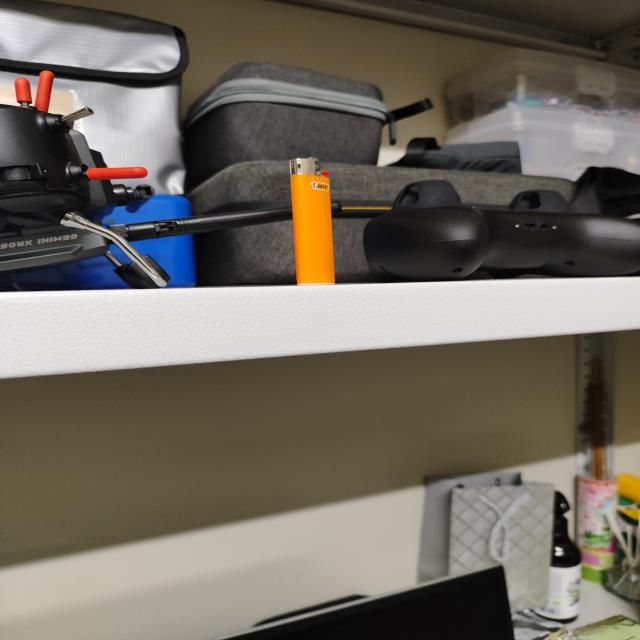lighter: (289, 158, 333, 284)
